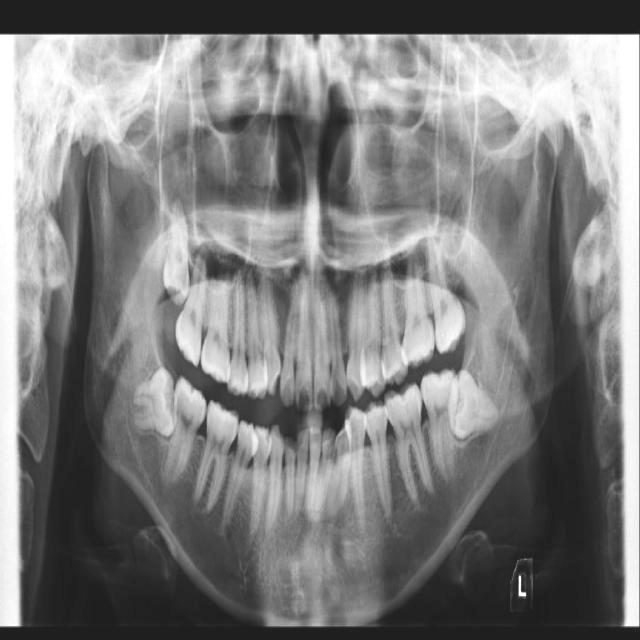impacted tooth: (122, 364, 173, 438), (451, 370, 502, 441), (162, 197, 190, 302)
